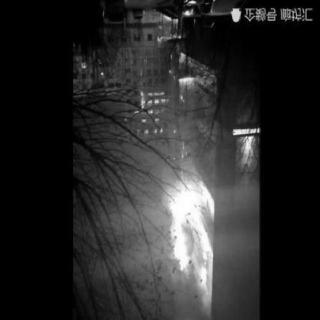Fire: (164, 173, 220, 309), (174, 74, 198, 94)
other: (228, 130, 258, 180), (162, 14, 182, 42), (136, 92, 144, 112), (184, 8, 192, 18)
